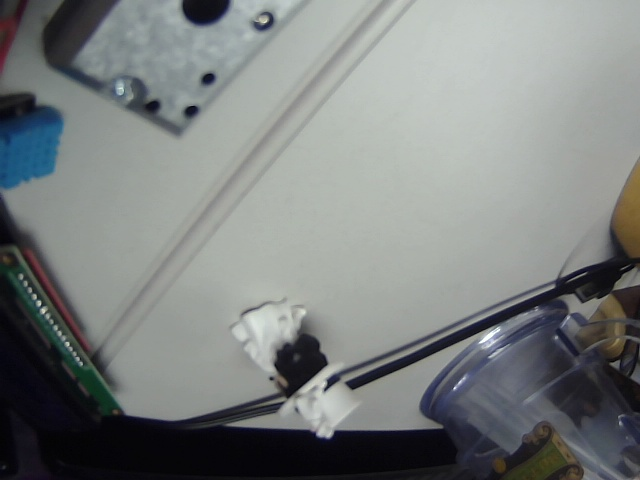lucci: (224, 289, 368, 450)
